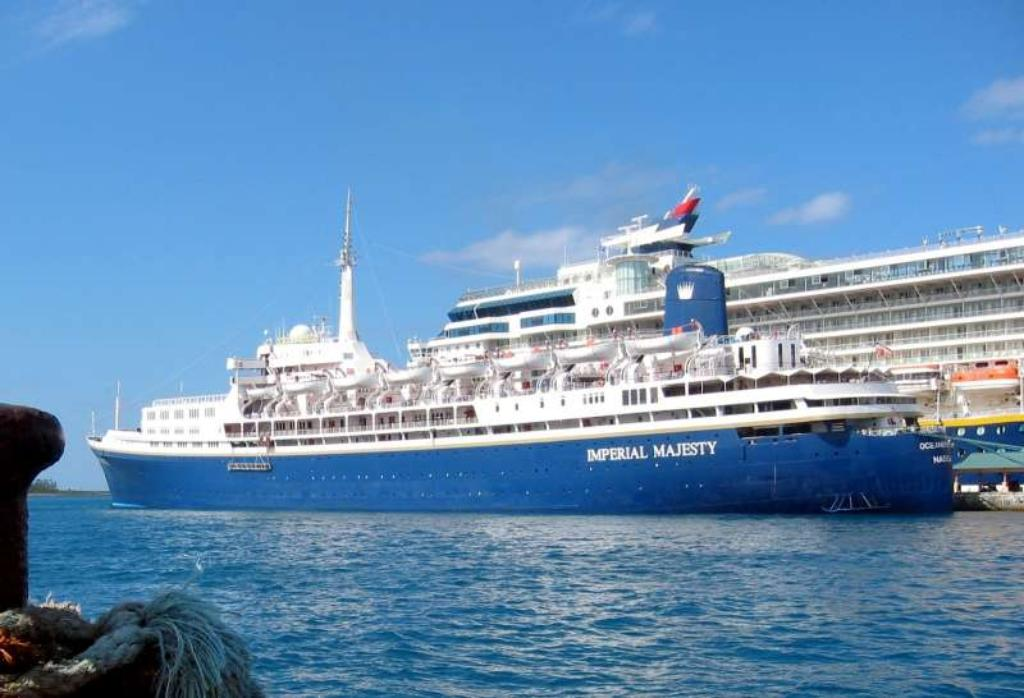PassengerShip: (82, 192, 980, 514)
